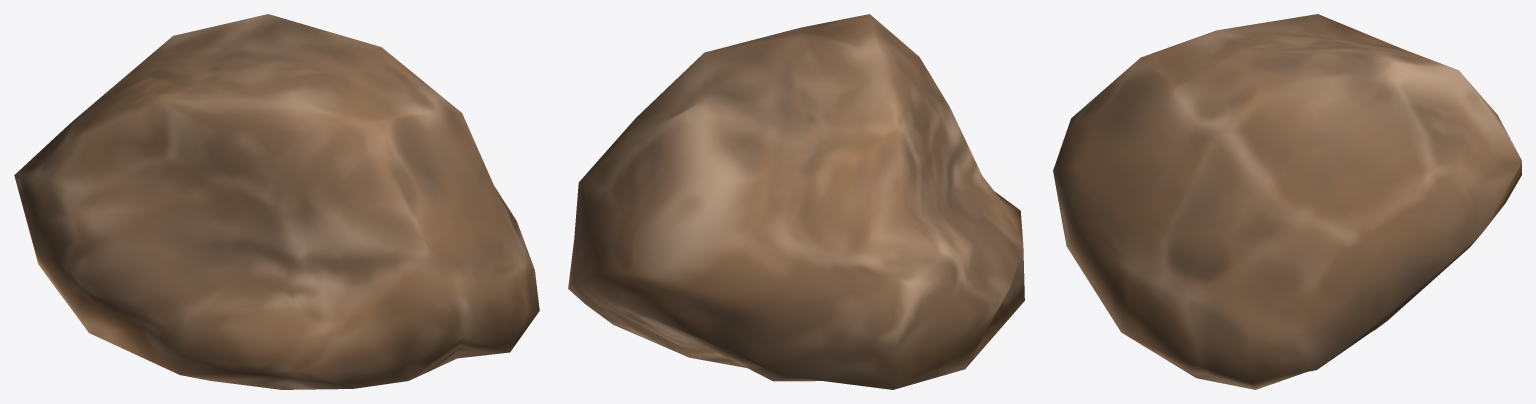
The model's file is PROP_Rock01.FBX.
3 views of the same model, side by side, from view 1: azimuth 30°, elevation 25°; view 2: azimuth 150°, elevation 25°; view 3: azimuth 270°, elevation 25° (orthographic). The views are drawn at different scales.
Parts seen in each view (by area): view 1: Group2000; view 2: Group2000; view 3: Group2000.
Part boxes in pixels (x1=…): Group2000: x1=14, y1=14, x2=539, y2=389; Group2000: x1=568, y1=14, x2=1024, y2=389; Group2000: x1=1053, y1=14, x2=1521, y2=389.
Bounding box in the file's own units: 2.47 × 1.61 × 2.6.
